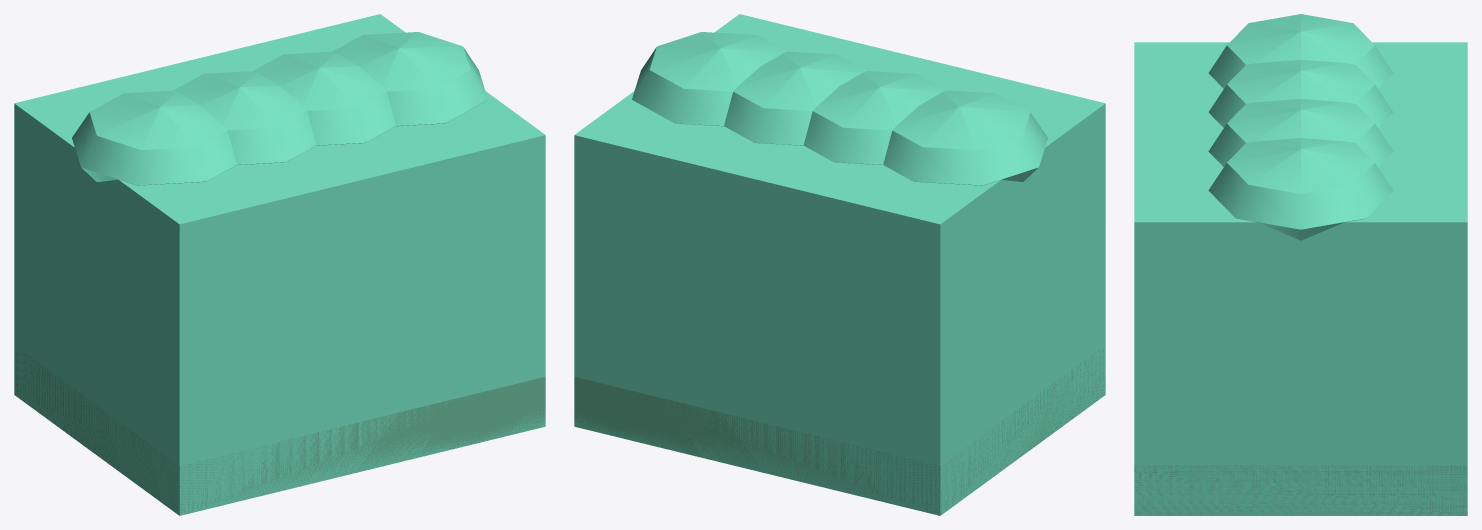
The model's file is gardenHedge.glb.
The picture shows the model from 3 angles, left to right: view 1: azimuth 30°, elevation 25°; view 2: azimuth 150°, elevation 25°; view 3: azimuth 270°, elevation 25°; orthographic projection.
Visible parts, largest first — view 1: gardenHedge; view 2: gardenHedge; view 3: gardenHedge.
Part boxes in pixels (x1,y1,x2,y2): gardenHedge: (14, 14, 545, 515); gardenHedge: (574, 14, 1105, 515); gardenHedge: (1134, 14, 1467, 515).
Size of the model in its own units: 0.5 by 0.44 by 0.36.
